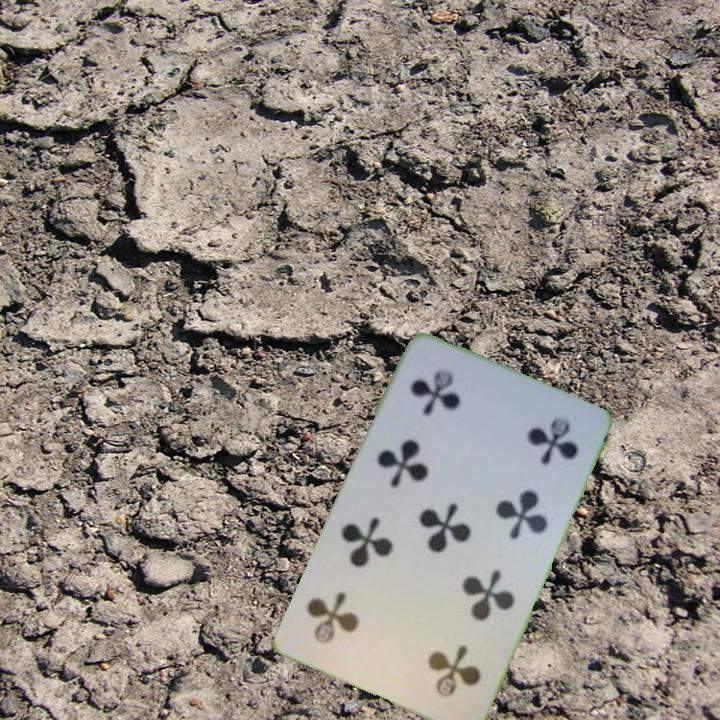c_9.png: (386, 347, 510, 464), (377, 601, 501, 718)
